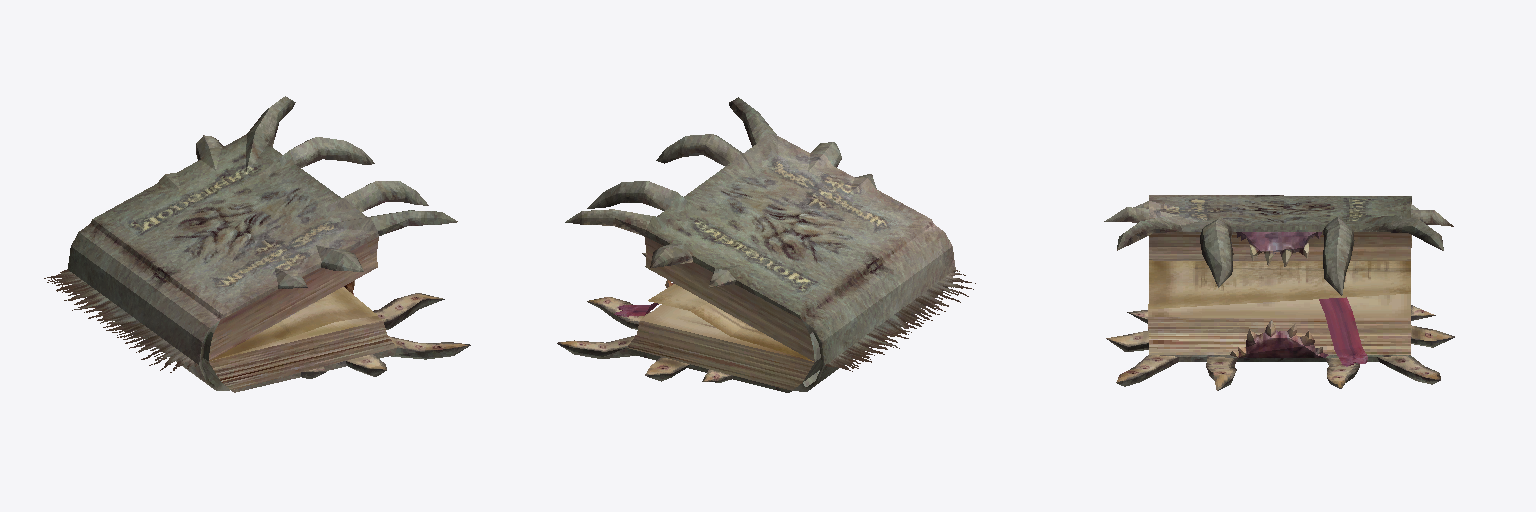
3 views of the same model, side by side, from view 1: azimuth 30°, elevation 25°; view 2: azimuth 150°, elevation 25°; view 3: azimuth 270°, elevation 25° (orthographic).
Parts seen in each view (by area): view 1: material_0, material_1; view 2: material_0, material_1; view 3: material_0, material_1.
Part boxes in pixels (x1,y1,x2,y2): material_0: (68, 96, 470, 392); material_1: (44, 269, 377, 372); material_0: (557, 97, 955, 392); material_1: (614, 270, 975, 371); material_0: (1104, 195, 1454, 390); material_1: (1149, 260, 1410, 366).
Bounding box in the file's own units: 66.78 × 31.23 × 64.52.
Materials: 2 (2 with a texture image).